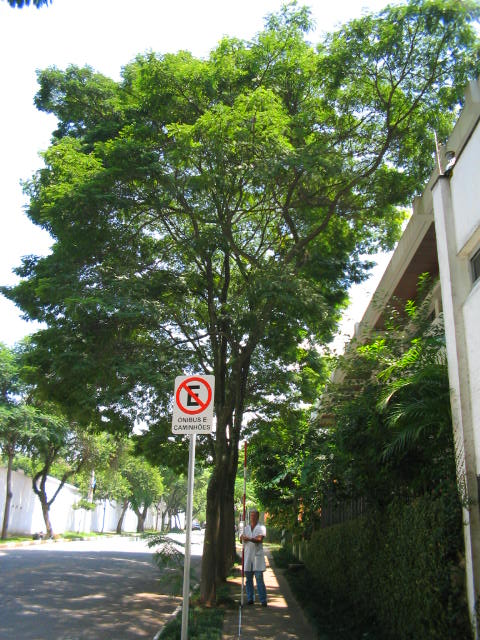crown: (24, 5, 471, 381)
stem: (192, 421, 238, 607)
stick: (235, 439, 251, 608)
tree: (21, 4, 473, 607)
